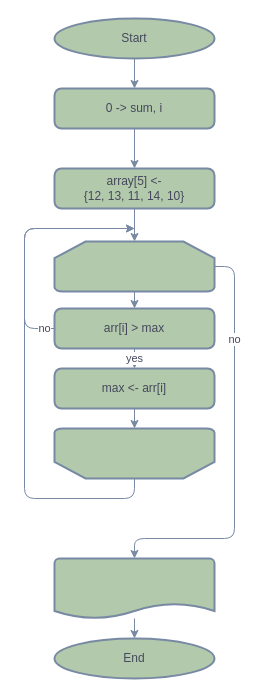
The diagram is 260 pixels wide and 696 high, and some of its shapes have lost their labels. The shapes that lost their labels are listed below. From the top down, each one's centre as x and y in pixels, then its label:
the point at 134,266: i < 5
the point at 134,453: ShakeShack
the point at 134,588: max
